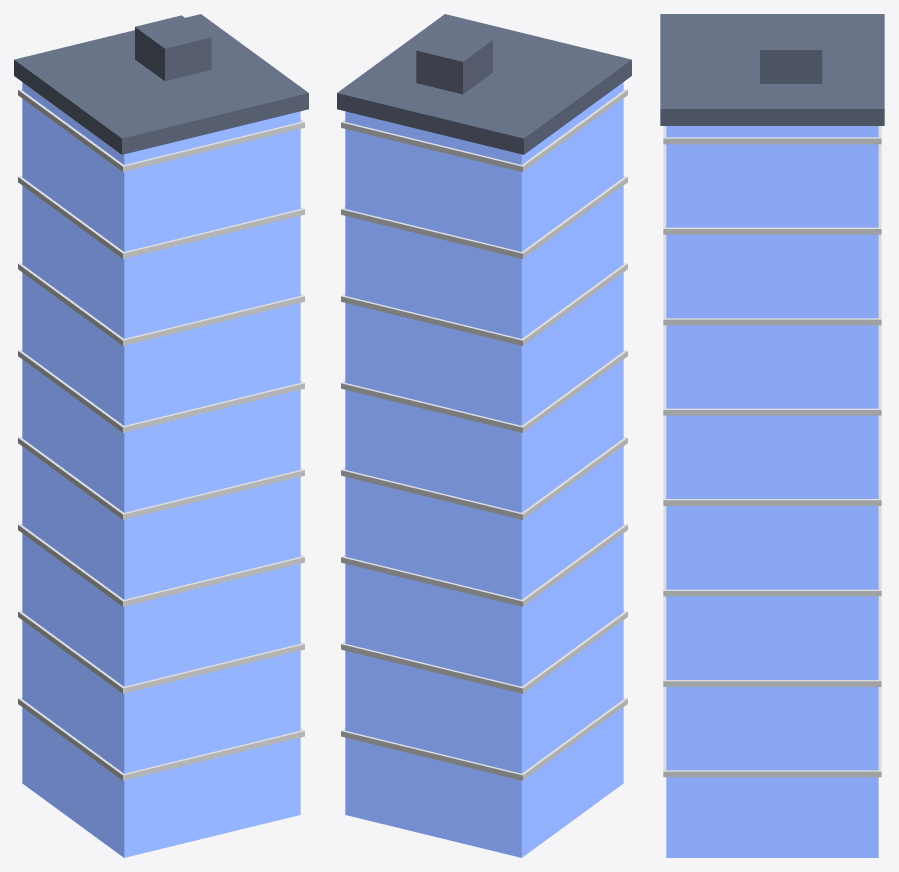
The model's file is office.glb.
The picture shows the model from 3 angles, left to right: view 1: azimuth 30°, elevation 25°; view 2: azimuth 150°, elevation 25°; view 3: azimuth 270°, elevation 25°; orthographic projection. The views are drawn at different scales.
Parts seen in each view (by area): view 1: office; view 2: office; view 3: office.
Part boxes in pixels (x1,y1,x2,y2): office: [14, 14, 308, 857]; office: [337, 14, 631, 857]; office: [660, 14, 884, 857].
Bounding box in the file's own units: 0.72 × 2.78 × 0.72.
